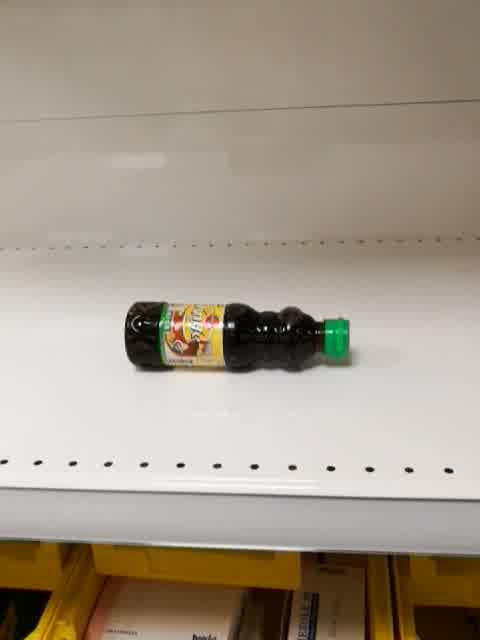cookingoil: (122, 299, 352, 376)
